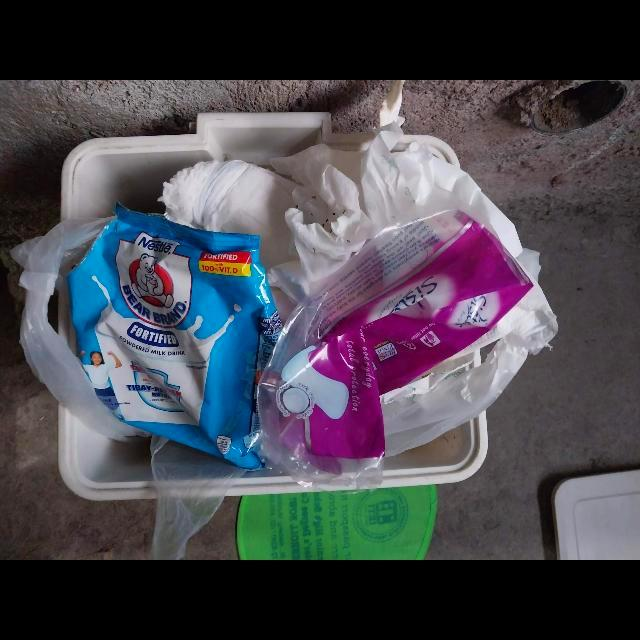food_wrapper: (66, 203, 282, 471)
paper: (360, 117, 523, 259), (267, 144, 379, 302)
plastic_bag: (258, 210, 533, 493)
